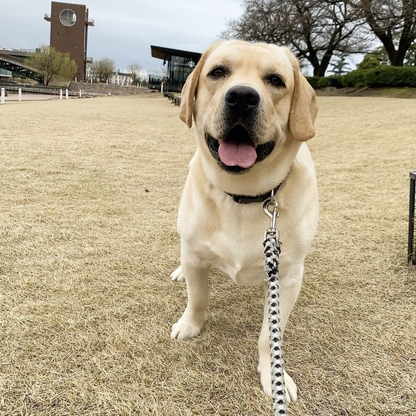labrado: (165, 37, 324, 403)
